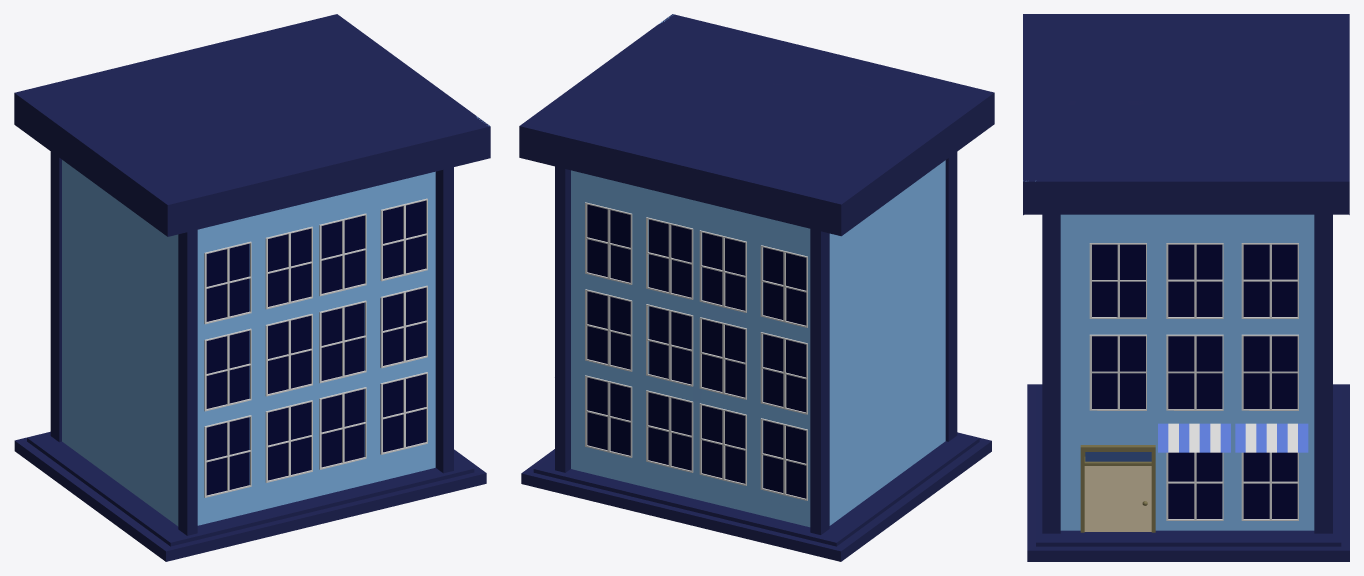
Rendered from building 1 .fbx.
3 renders of one model, left to right at view 1: azimuth 30°, elevation 25°; view 2: azimuth 150°, elevation 25°; view 3: azimuth 270°, elevation 25°, orthographic. The views are drawn at different scales.
Parts seen in each view (by area): view 1: Cube.001, Cube, Cube.005, Cube.002, Cube.004, Cube.020, Cube.027, Cube.021, Cube.022, Cube.023, Cube.025, Cube.028 (+5 smaller); view 2: Cube.001, Cube, Cube.004, Cube.003, Cube.005, Cube.009, Cube.014, Cube.016, Cube.017, Cube.008, Cube.015, Cube.018 (+5 smaller); view 3: Cube.001, Cube, Cube.002, Cube.003, Cube.038, Cube.040, Cube.039, Cube.033, Cube.032, Cube.034, Cube.035, Cube.036 (+4 smaller).
Part boxes in pixels (x1,y1,x2,y2): Cube.001: (14,14,490,526); Cube: (14,431,486,561); Cube.005: (178,229,197,535); Cube.002: (435,167,453,473); Cube.004: (50,151,61,442); Cube.020: (380,198,427,281); Cube.027: (380,285,427,368); Cube.021: (319,213,366,296); Cube.022: (204,241,251,324); Cube.023: (265,226,312,309); Cube.025: (204,328,251,411); Cube.028: (380,372,427,454); Cube.001: (519,14,994,527); Cube: (521,432,991,561); Cube.004: (810,229,829,534); Cube.003: (555,166,570,472); Cube.005: (945,152,957,441); Cube.009: (585,375,632,457); Cube.014: (585,289,632,371); Cube.016: (646,217,693,299); Cube.017: (585,202,632,284); Cube.008: (646,390,693,472); Cube.015: (646,304,693,386); Cube.018: (699,230,746,312); Cube.001: (1023,14,1349,532); Cube: (1027,384,1349,561); Cube.002: (1042,214,1060,533); Cube.003: (1314,214,1332,533); Cube.038: (1084,466,1151,531); Cube.040: (1235,423,1308,452); Cube.039: (1158,423,1230,452); Cube.033: (1166,334,1223,410); Cube.032: (1241,334,1298,410); Cube.034: (1166,243,1223,318); Cube.035: (1241,243,1298,318); Cube.036: (1089,334,1146,410).
Size of the model in its own units: 730 by 774 by 602.
